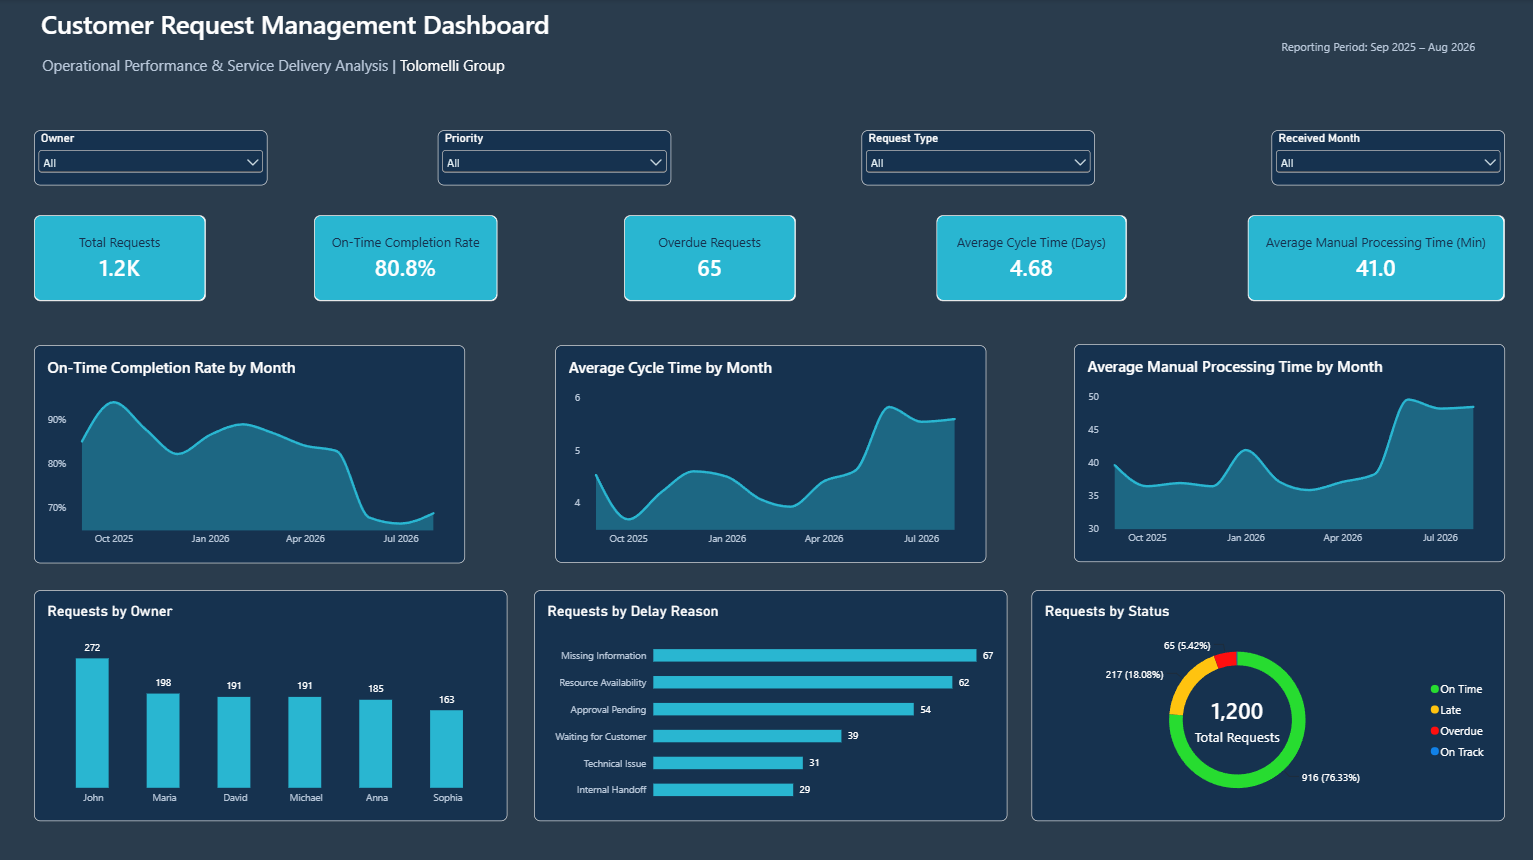

This screenshot's page, from the dashboard's own definition file:
{"tool":"powerbi","page":{"name":"Page 1","canvas":[1920,1080],"ordinal":0},"visuals":[{"type":"cardVisual","fields":{"Data":["Customer_Requests.Total Requests"]},"box":[43.6,269.7,214.1,107],"z":0},{"type":"cardVisual","fields":{"Data":["Customer_Requests.On-Time Completion Rate"]},"box":[392.8,269.7,229.2,107.6],"z":1000},{"type":"cardVisual","fields":{"Data":["Customer_Requests.Overdue Requests"]},"box":[779.4,269.7,214.1,107],"z":2000},{"type":"cardVisual","title":"gg","fields":{"Data":["Customer_Requests.Average Cycle Time"]},"box":[1169.2,269.7,237.2,107],"z":3000},{"type":"cardVisual","fields":{"Data":["Customer_Requests.Average Manual Processing Time"]},"box":[1557.3,269.7,320.9,107],"z":4000},{"type":"areaChart","title":"On-Time Completion Rate by Month","fields":{"Category":["Customer_Requests.Received_Month"],"Y":["Customer_Requests.On-Time Completion Rate"]},"box":[43.6,431.8,537.2,271.7],"z":5000},{"type":"areaChart","title":"Average Cycle Time by Month","fields":{"Category":["Customer_Requests.Received_Month"],"Y":["Customer_Requests.Average Cycle Time (Days)"]},"box":[693.7,431.8,537.2,271],"z":6000},{"type":"areaChart","title":"Average Manual Processing Time by Month","fields":{"Category":["Customer_Requests.Received_Month"],"Y":["Customer_Requests.Average Manual Processing Time (Min)"]},"box":[1340.7,431,537.2,271.7],"z":7000},{"type":"columnChart","title":"Requests by Owner","fields":{"Category":["Customer_Requests.Owner"],"Y":["Customer_Requests.Total Requests"]},"box":[43.6,737.4,590.7,288.2],"z":8000},{"type":"clusteredBarChart","title":"Requests by Delay Reason","fields":{"Category":["Customer_Requests.Delay_Reason"],"Y":["Customer_Requests.Total Requests"]},"box":[667.2,737.4,590,288.2],"z":9000},{"type":"donutChart","title":"Requests by Status","fields":{"Category":["Customer_Requests.Request_Status"],"Y":["Customer_Requests.Total Requests"]},"box":[1287.7,737,590.7,288.2],"z":10000},{"type":"slicer","fields":{"Values":["Customer_Requests.Owner"]},"box":[43.6,163.7,291.5,68.6],"z":11000},{"type":"slicer","fields":{"Values":["Customer_Requests.Priority"]},"box":[547.2,163.7,291,68.6],"z":12000},{"type":"slicer","fields":{"Values":["Customer_Requests.Request_Type"]},"box":[1075.6,163.7,291.5,68.6],"z":13000},{"type":"slicer","fields":{"Values":["Customer_Requests.Received_Month"]},"box":[1587,163.7,291.5,68.6],"z":14000},{"type":"textbox","box":[43.6,9.4,664.1,107.6],"z":15000},{"type":"textbox","box":[1600,50,275.6,20.9],"z":17000}]}

Visuals, with their boxes in screenshot pixels (x1, y1, x2, y2), scaled from the page's 1920x1080 canvas onto the 1533x860 screenshot:
cardVisual - Customer_Requests.Total Requests: [left=35, top=215, right=206, bottom=300]
cardVisual - Customer_Requests.On-Time Completion Rate: [left=314, top=215, right=497, bottom=300]
cardVisual - Customer_Requests.Overdue Requests: [left=622, top=215, right=793, bottom=300]
"gg" cardVisual: [left=934, top=215, right=1123, bottom=300]
cardVisual - Customer_Requests.Average Manual Processing Time: [left=1243, top=215, right=1500, bottom=300]
"On-Time Completion Rate by Month" areaChart: [left=35, top=344, right=464, bottom=560]
"Average Cycle Time by Month" areaChart: [left=554, top=344, right=983, bottom=560]
"Average Manual Processing Time by Month" areaChart: [left=1070, top=343, right=1499, bottom=560]
"Requests by Owner" columnChart: [left=35, top=587, right=506, bottom=817]
"Requests by Delay Reason" clusteredBarChart: [left=533, top=587, right=1004, bottom=817]
"Requests by Status" donutChart: [left=1028, top=587, right=1500, bottom=816]
slicer - Customer_Requests.Owner: [left=35, top=130, right=268, bottom=185]
slicer - Customer_Requests.Priority: [left=437, top=130, right=669, bottom=185]
slicer - Customer_Requests.Request_Type: [left=859, top=130, right=1092, bottom=185]
slicer - Customer_Requests.Received_Month: [left=1267, top=130, right=1500, bottom=185]
textbox: [left=35, top=7, right=565, bottom=93]
textbox: [left=1278, top=40, right=1498, bottom=56]
